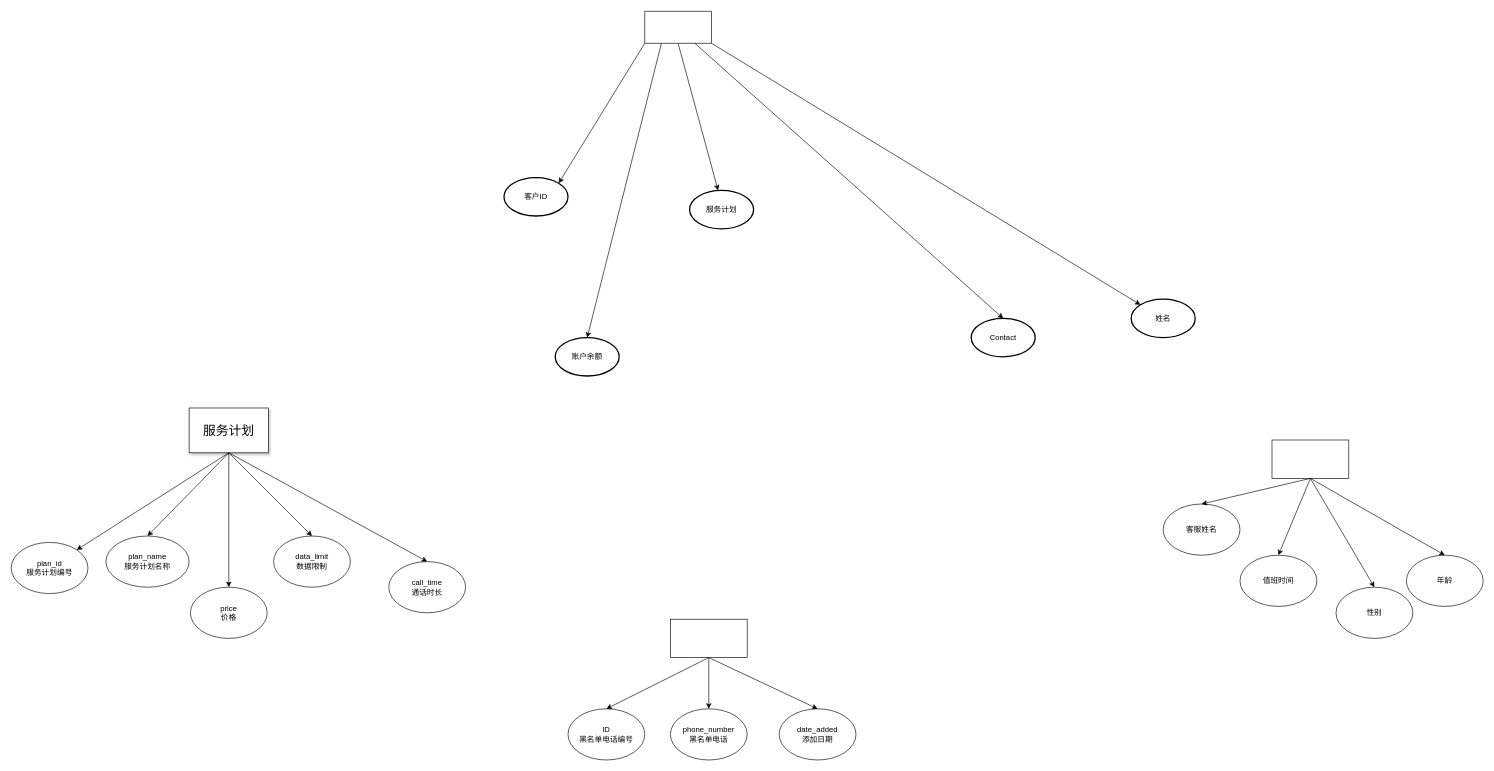
Some shapes in this 1494 by 771 pixel diagram are drawn without their labels. The shapes that lost their labels are listed below. From the top down, each one's centre as x and y in pixels, then its label:
At (677,27): "用户".
At (1310,458): "客服".
At (708,638): "黑名单".
